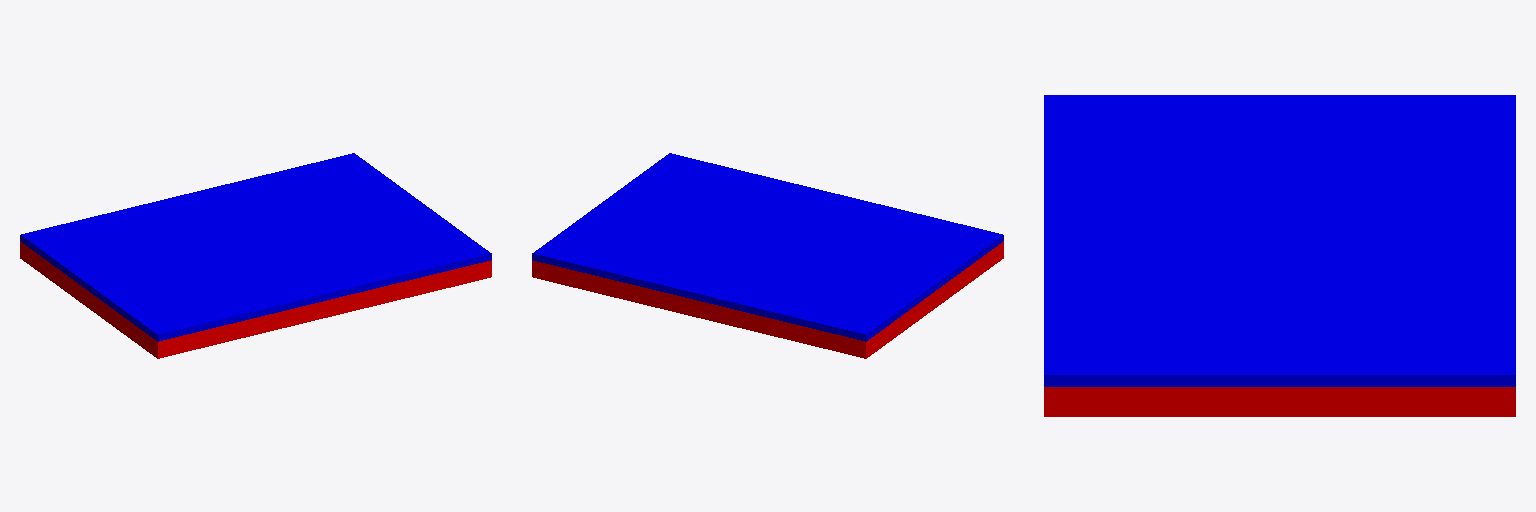
URDF robot description (thinkpad_x13_gen1_laptop):
<?xml version="1.0" ?>
<!-- =================================================================================== -->
<!-- |    This document was autogenerated by xacro from /home/cadennurse/xarm_ws/src/xarm_ros2/xarm_description/urdf/other/thinkpad_x13_gen1.urdf.xacro | -->
<!-- |    EDITING THIS FILE BY HAND IS NOT RECOMMENDED                                 | -->
<!-- =================================================================================== -->
<robot name="thinkpad_x13_gen1_laptop">
  <material name="base_red">
    <color rgba="1 0 0 1"/>
  </material>
  <material name="lid_blue">
    <color rgba="0 0 1 1"/>
  </material>
  <!-- Base -->
  <link name="base_link">
    <inertial>
      <origin rpy="0 0 0" xyz="0 0 0.0075"/>
      <mass value="1.05"/>
      <inertia ixx="0.004139975000000001" ixy="0.0" ixz="0.0" iyy="0.008159375" iyz="0.0" izz="0.012259975"/>
    </inertial>
    <visual>
      <origin rpy="0 0 0" xyz="0 0 0.0075"/>
      <geometry>
        <box size="0.305 0.217 0.015"/>
      </geometry>
      <material name="base_red"/>
    </visual>
    <collision>
      <origin rpy="0 0 0" xyz="0 0 0.0075"/>
      <geometry>
        <box size="0.305 0.217 0.015"/>
      </geometry>
    </collision>
  </link>
  <!-- Lid/Screen -->
  <link name="lid_link">
    <inertial>
      <origin rpy="0 0 0" xyz="0 0.1085 0.003"/>
      <mass value="0.55"/>
      <inertia ixx="0.0021598958333333335" ixy="0.0" ixz="0.0" iyy="0.0042652958333333334" iyz="0.0" izz="0.006421891666666667"/>
    </inertial>
    <visual>
      <origin rpy="0 0 0" xyz="0 0.1085 0.003"/>
      <geometry>
        <box size="0.305 0.217 0.006"/>
      </geometry>
      <material name="lid_blue"/>
    </visual>
    <collision>
      <origin rpy="0 0 0" xyz="0 0.1085 0.003"/>
      <geometry>
        <box size="0.305 0.217 0.006"/>
      </geometry>
    </collision>
  </link>
  <!-- Hinge Joint -->
  <joint name="hinge_joint" type="revolute">
    <parent link="base_link"/>
    <child link="lid_link"/>
    <origin rpy="0 0 0" xyz="0.0 -0.1085 0.015"/>
    <axis xyz="1 0 0"/>
    <limit effort="1.0" lower="0.0" upper="3.1416" velocity="1.0"/>
  </joint>
</robot>

--- Facts derived from the render (not from the file) ---
The picture shows the robot from 3 angles, left to right: view 1: azimuth 30°, elevation 25°; view 2: azimuth 150°, elevation 25°; view 3: azimuth 270°, elevation 25°; orthographic projection.
Model thinkpad_x13_gen1_laptop with 2 links and 1 joints (1 revolute), rooted at base_link, posed all joints at 0.
Links seen in each view (by area): view 1: lid_link, base_link; view 2: lid_link, base_link; view 3: lid_link, base_link.
Boxes of the visible links, left/top/right/bottom form: lid_link: left=20, top=153, right=491, bottom=341; base_link: left=20, top=241, right=491, bottom=358; lid_link: left=532, top=153, right=1003, bottom=341; base_link: left=532, top=241, right=1003, bottom=358; lid_link: left=1044, top=95, right=1515, bottom=386; base_link: left=1044, top=387, right=1515, bottom=416.
Size in the robot's own frame: 0.305 by 0.217 by 0.021 metres.
Geometry: primitives only (box / cylinder / sphere), no mesh files.
